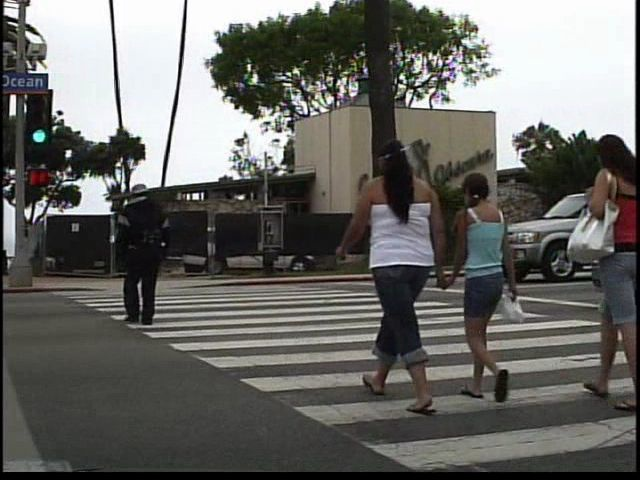person: (344, 125, 456, 414), (454, 167, 528, 418), (109, 179, 175, 336)
